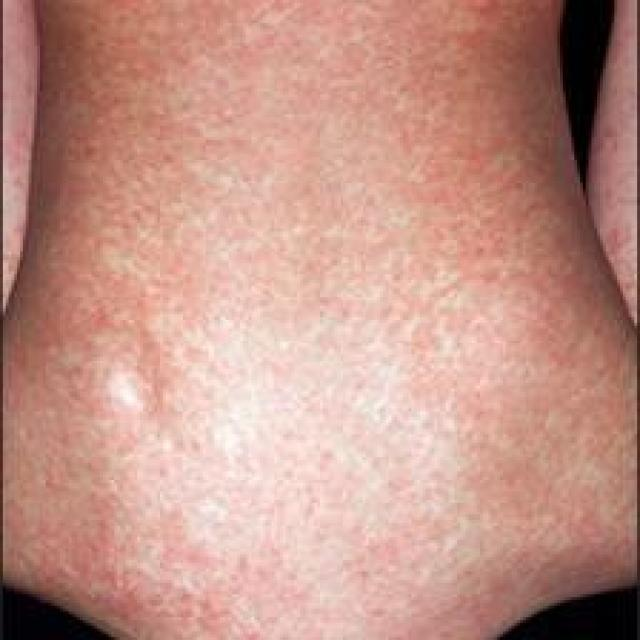others: (0, 0, 635, 621)
